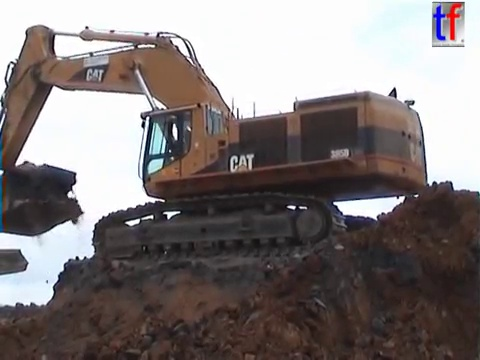excavator: (1, 22, 433, 273)
truck: (1, 246, 31, 278)
